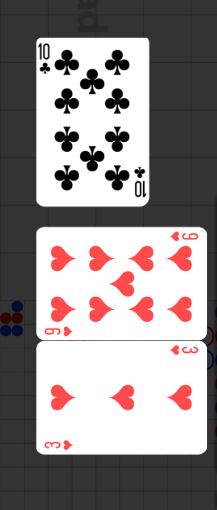10C: (38, 42, 54, 77)
3H: (44, 438, 75, 451)
9H: (168, 231, 199, 243)
